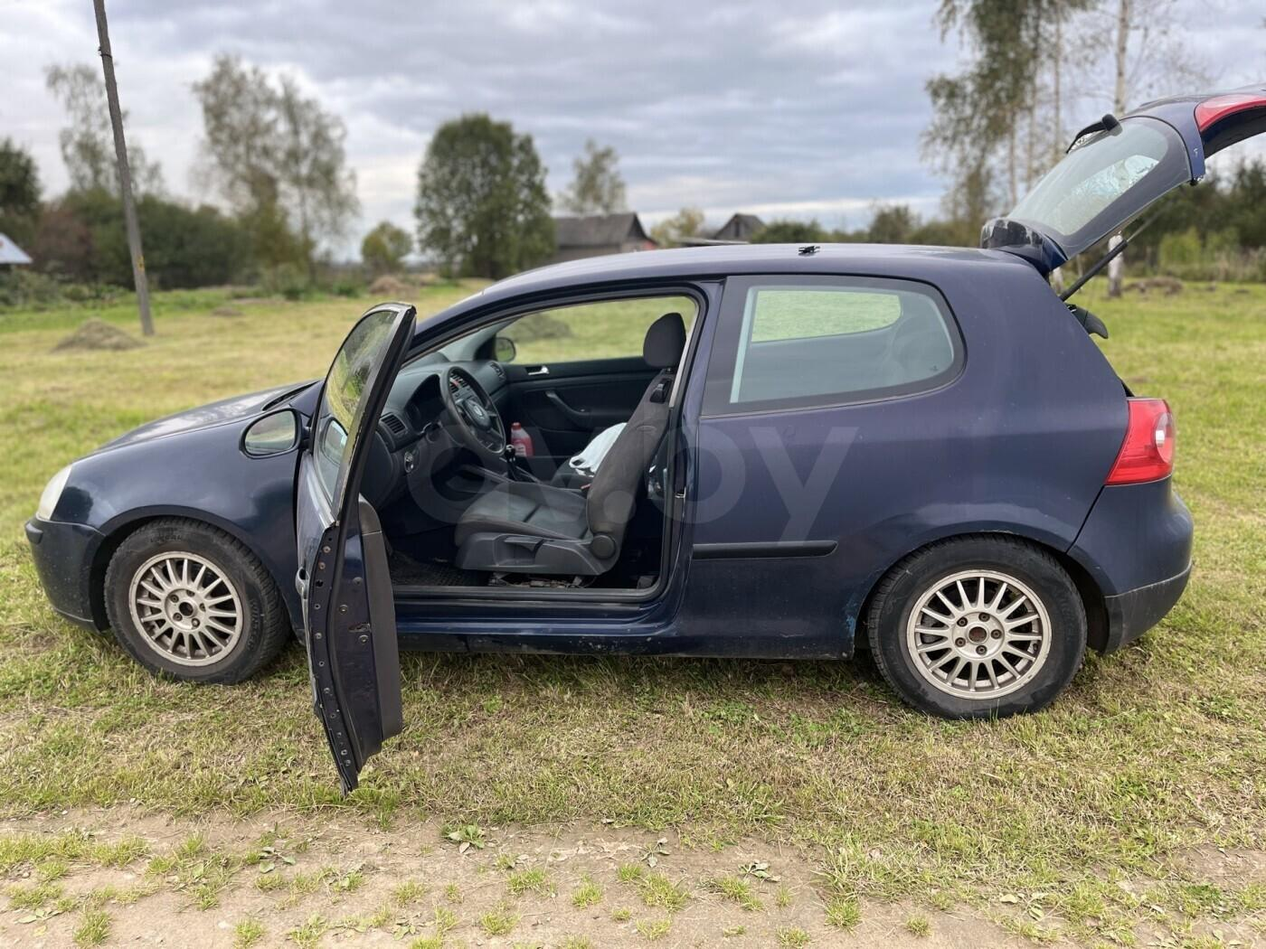Golf_2003-2009: (22, 239, 1191, 717)
